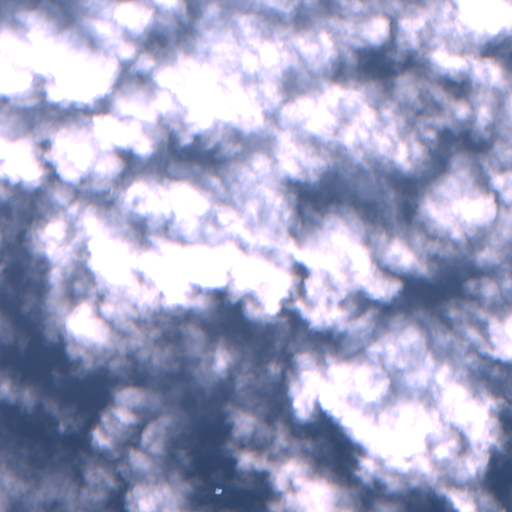Iceberg: (215, 488, 221, 494)
